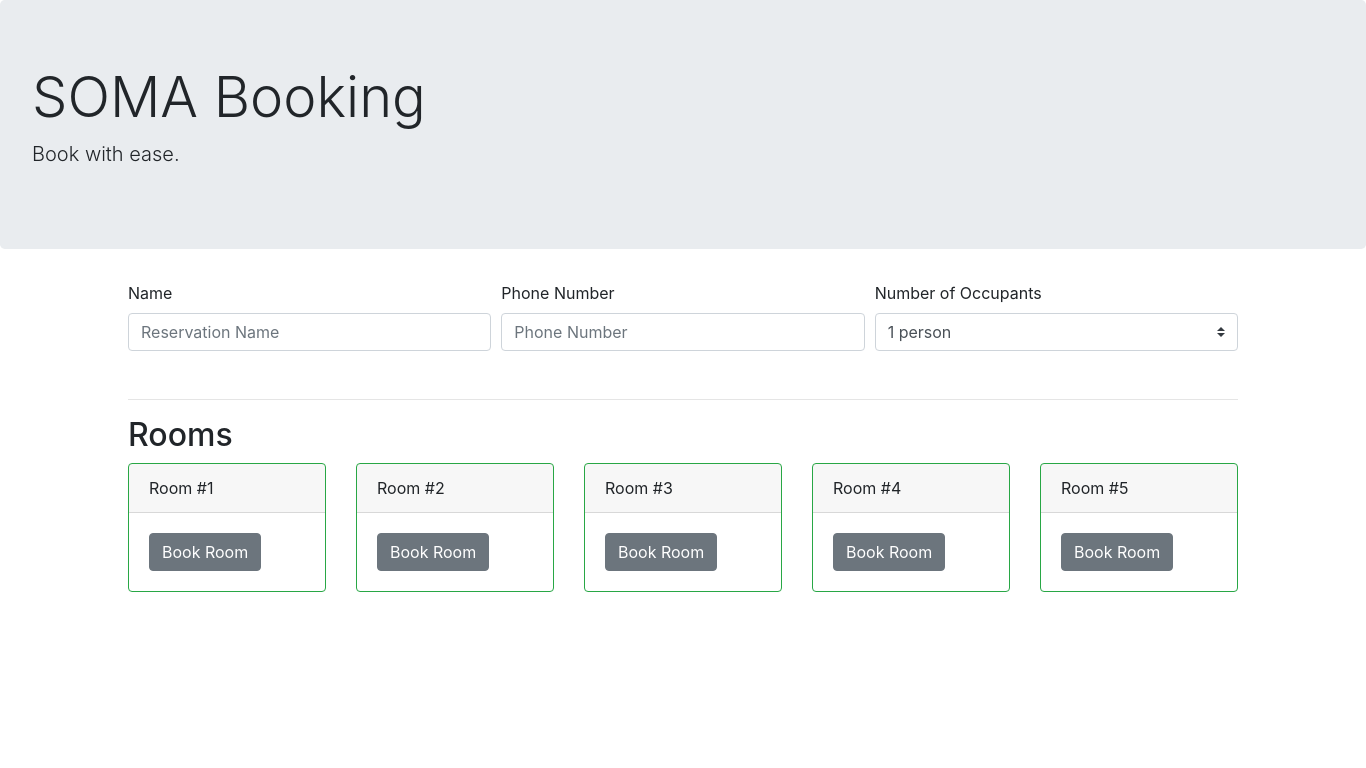
Test: Books and removes a room
This screenshot has width=1366, height=768.
Type "Josh" into the field with placeholder "Reservation Name" at (310, 332), box [128,313,491,351]
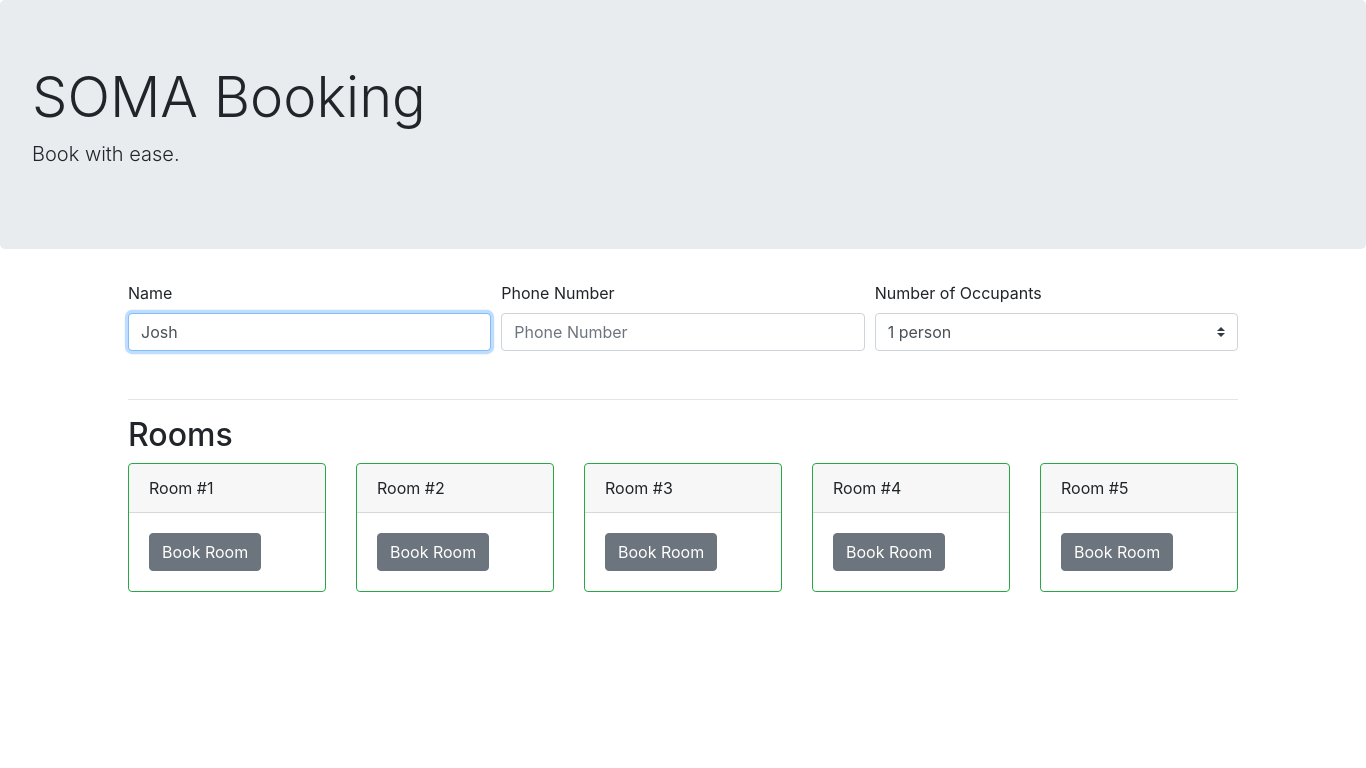
Type "8888888888" into the field with placeholder "Phone Number" at (683, 332), box [501,313,865,351]
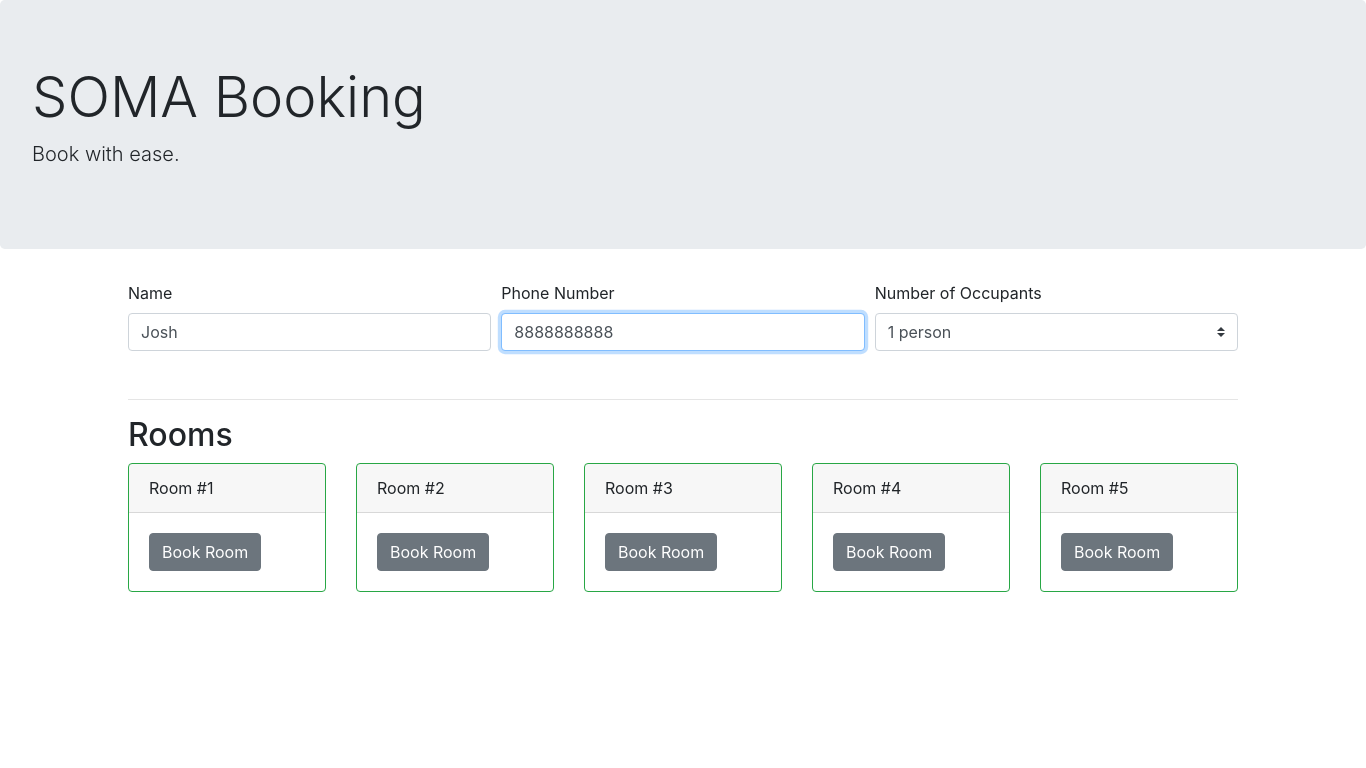
Click the button with test id "book-room-1" at (205, 552), box [149,533,261,571]
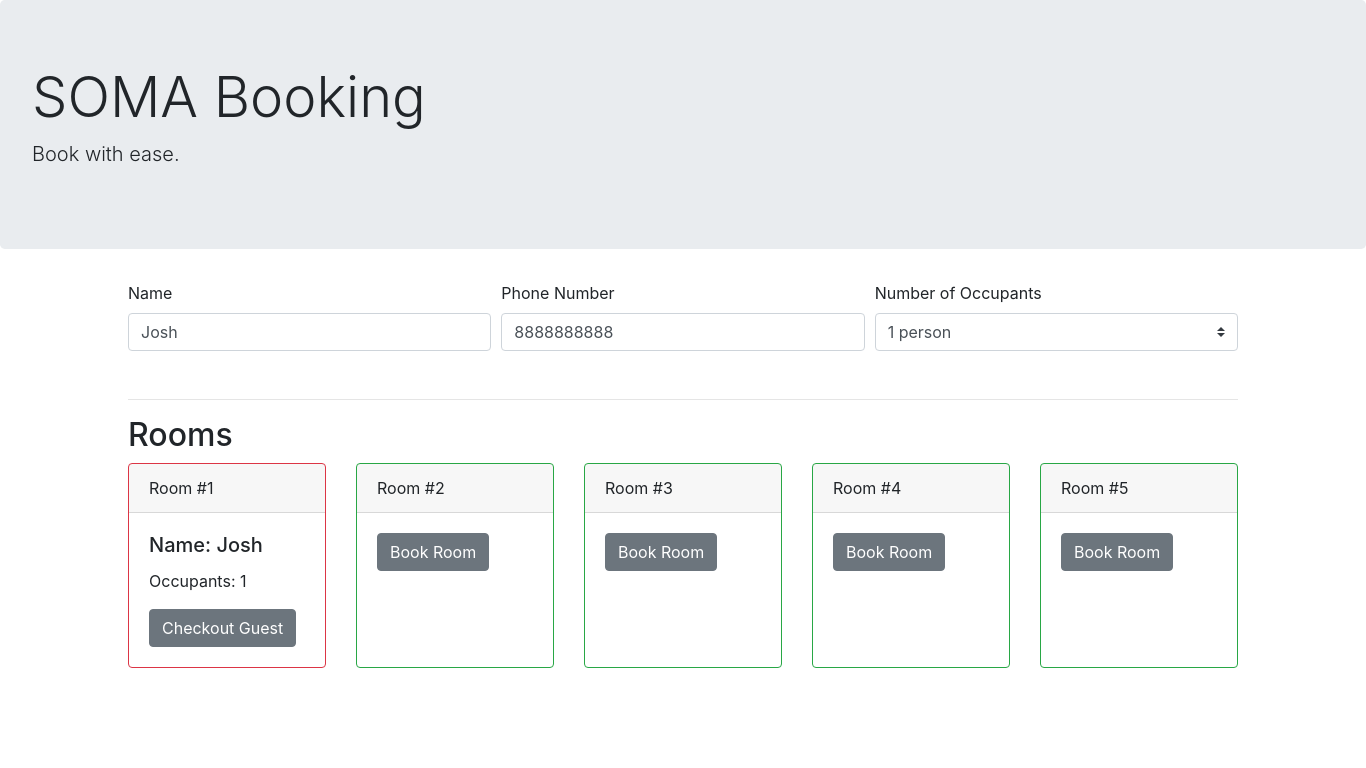
Expected: the text with test id "room-1-number" reads "Room #1", [129,464,325,513]
Result: the heading with test id "room-1-name" reads "Name: Josh" at [149,533,263,557]
Result: the text with test id "room-1-occupants" reads "Occupants: 1" at [149,571,246,591]
Click the button "Checkout Guest" at (223, 628), box [149,609,296,647]
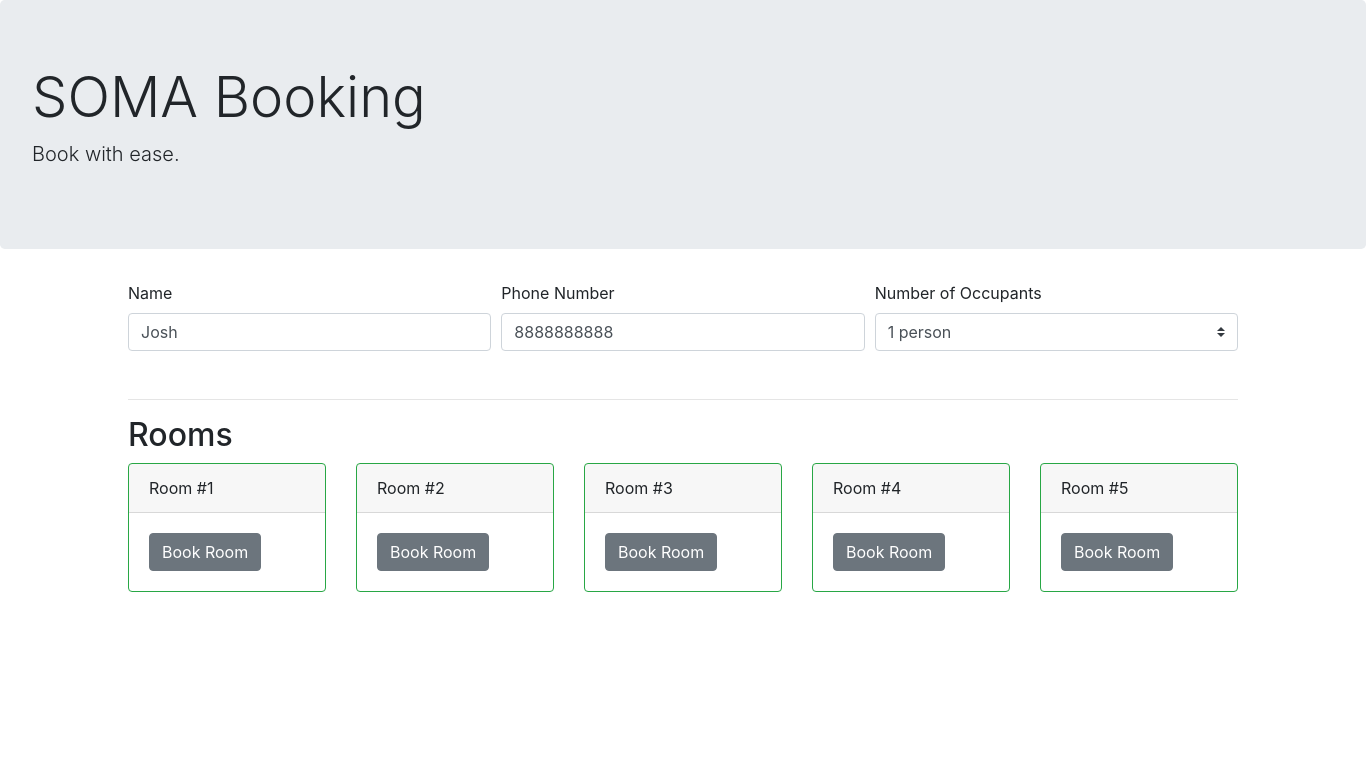
Result: the number of buttons "Book Room" is 5 at [149,533,261,571]; [377,533,489,571]; [605,533,717,571]; [833,533,945,571]; [1061,533,1173,571]
